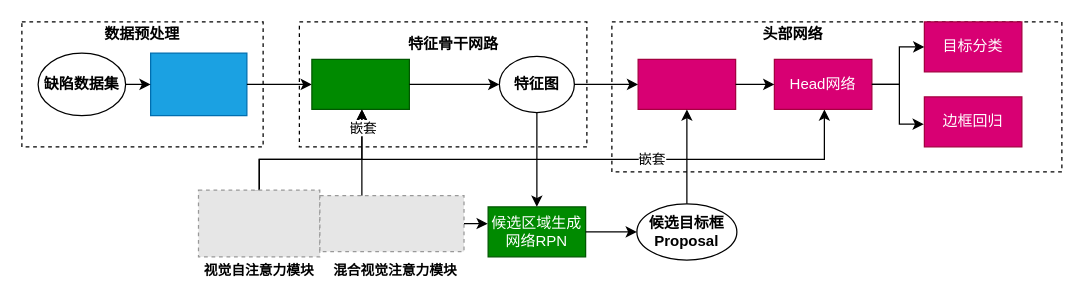
Image size: 1084x306. Some labels were removed from this diagram. Grey dashed boxes stand in for pictures. The centre of each missing label's shape, as x and y in pixels:
ROI: point (686, 83)
数据增强: point (198, 84)
特征提取网络: point (360, 83)
